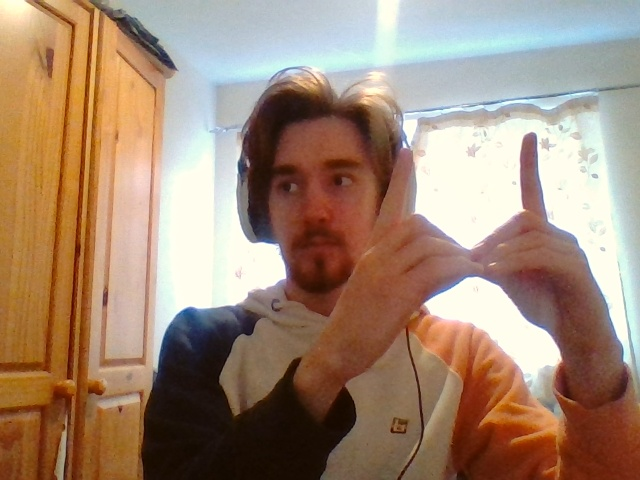meet: (379, 133, 548, 275)
